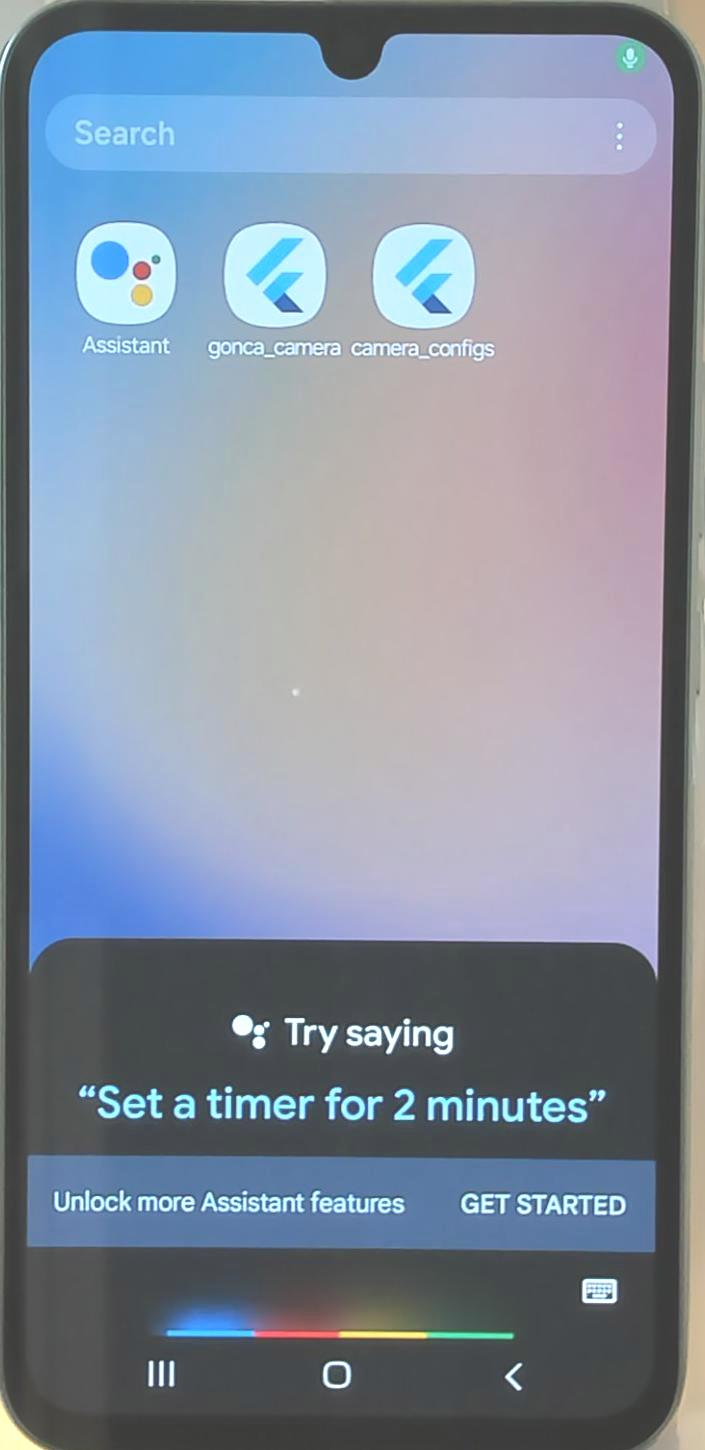CommunBotton: (352, 216, 504, 362), (204, 210, 348, 364), (70, 202, 182, 362), (126, 1338, 202, 1404), (316, 1346, 366, 1402), (500, 1356, 546, 1408)
menu: (592, 100, 648, 178)
